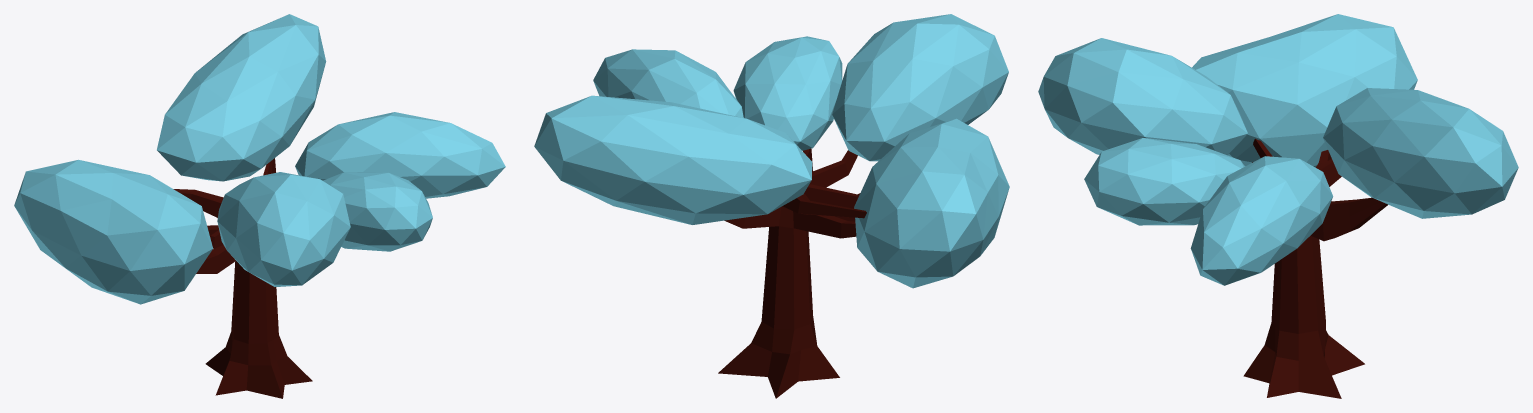
File: tree.fbx
The picture shows the model from 3 angles, left to right: view 1: azimuth 30°, elevation 25°; view 2: azimuth 150°, elevation 25°; view 3: azimuth 270°, elevation 25°; orthographic projection. The views are drawn at different scales.
Visible parts, largest first — view 1: Cylinder; view 2: Cylinder; view 3: Cylinder.
Part boxes in pixels (x1,y1,x2,y2): Cylinder: (14, 14, 505, 398); Cylinder: (534, 14, 1009, 398); Cylinder: (1038, 14, 1518, 398).
Size of the model in its own units: 1294 by 834 by 1183.
